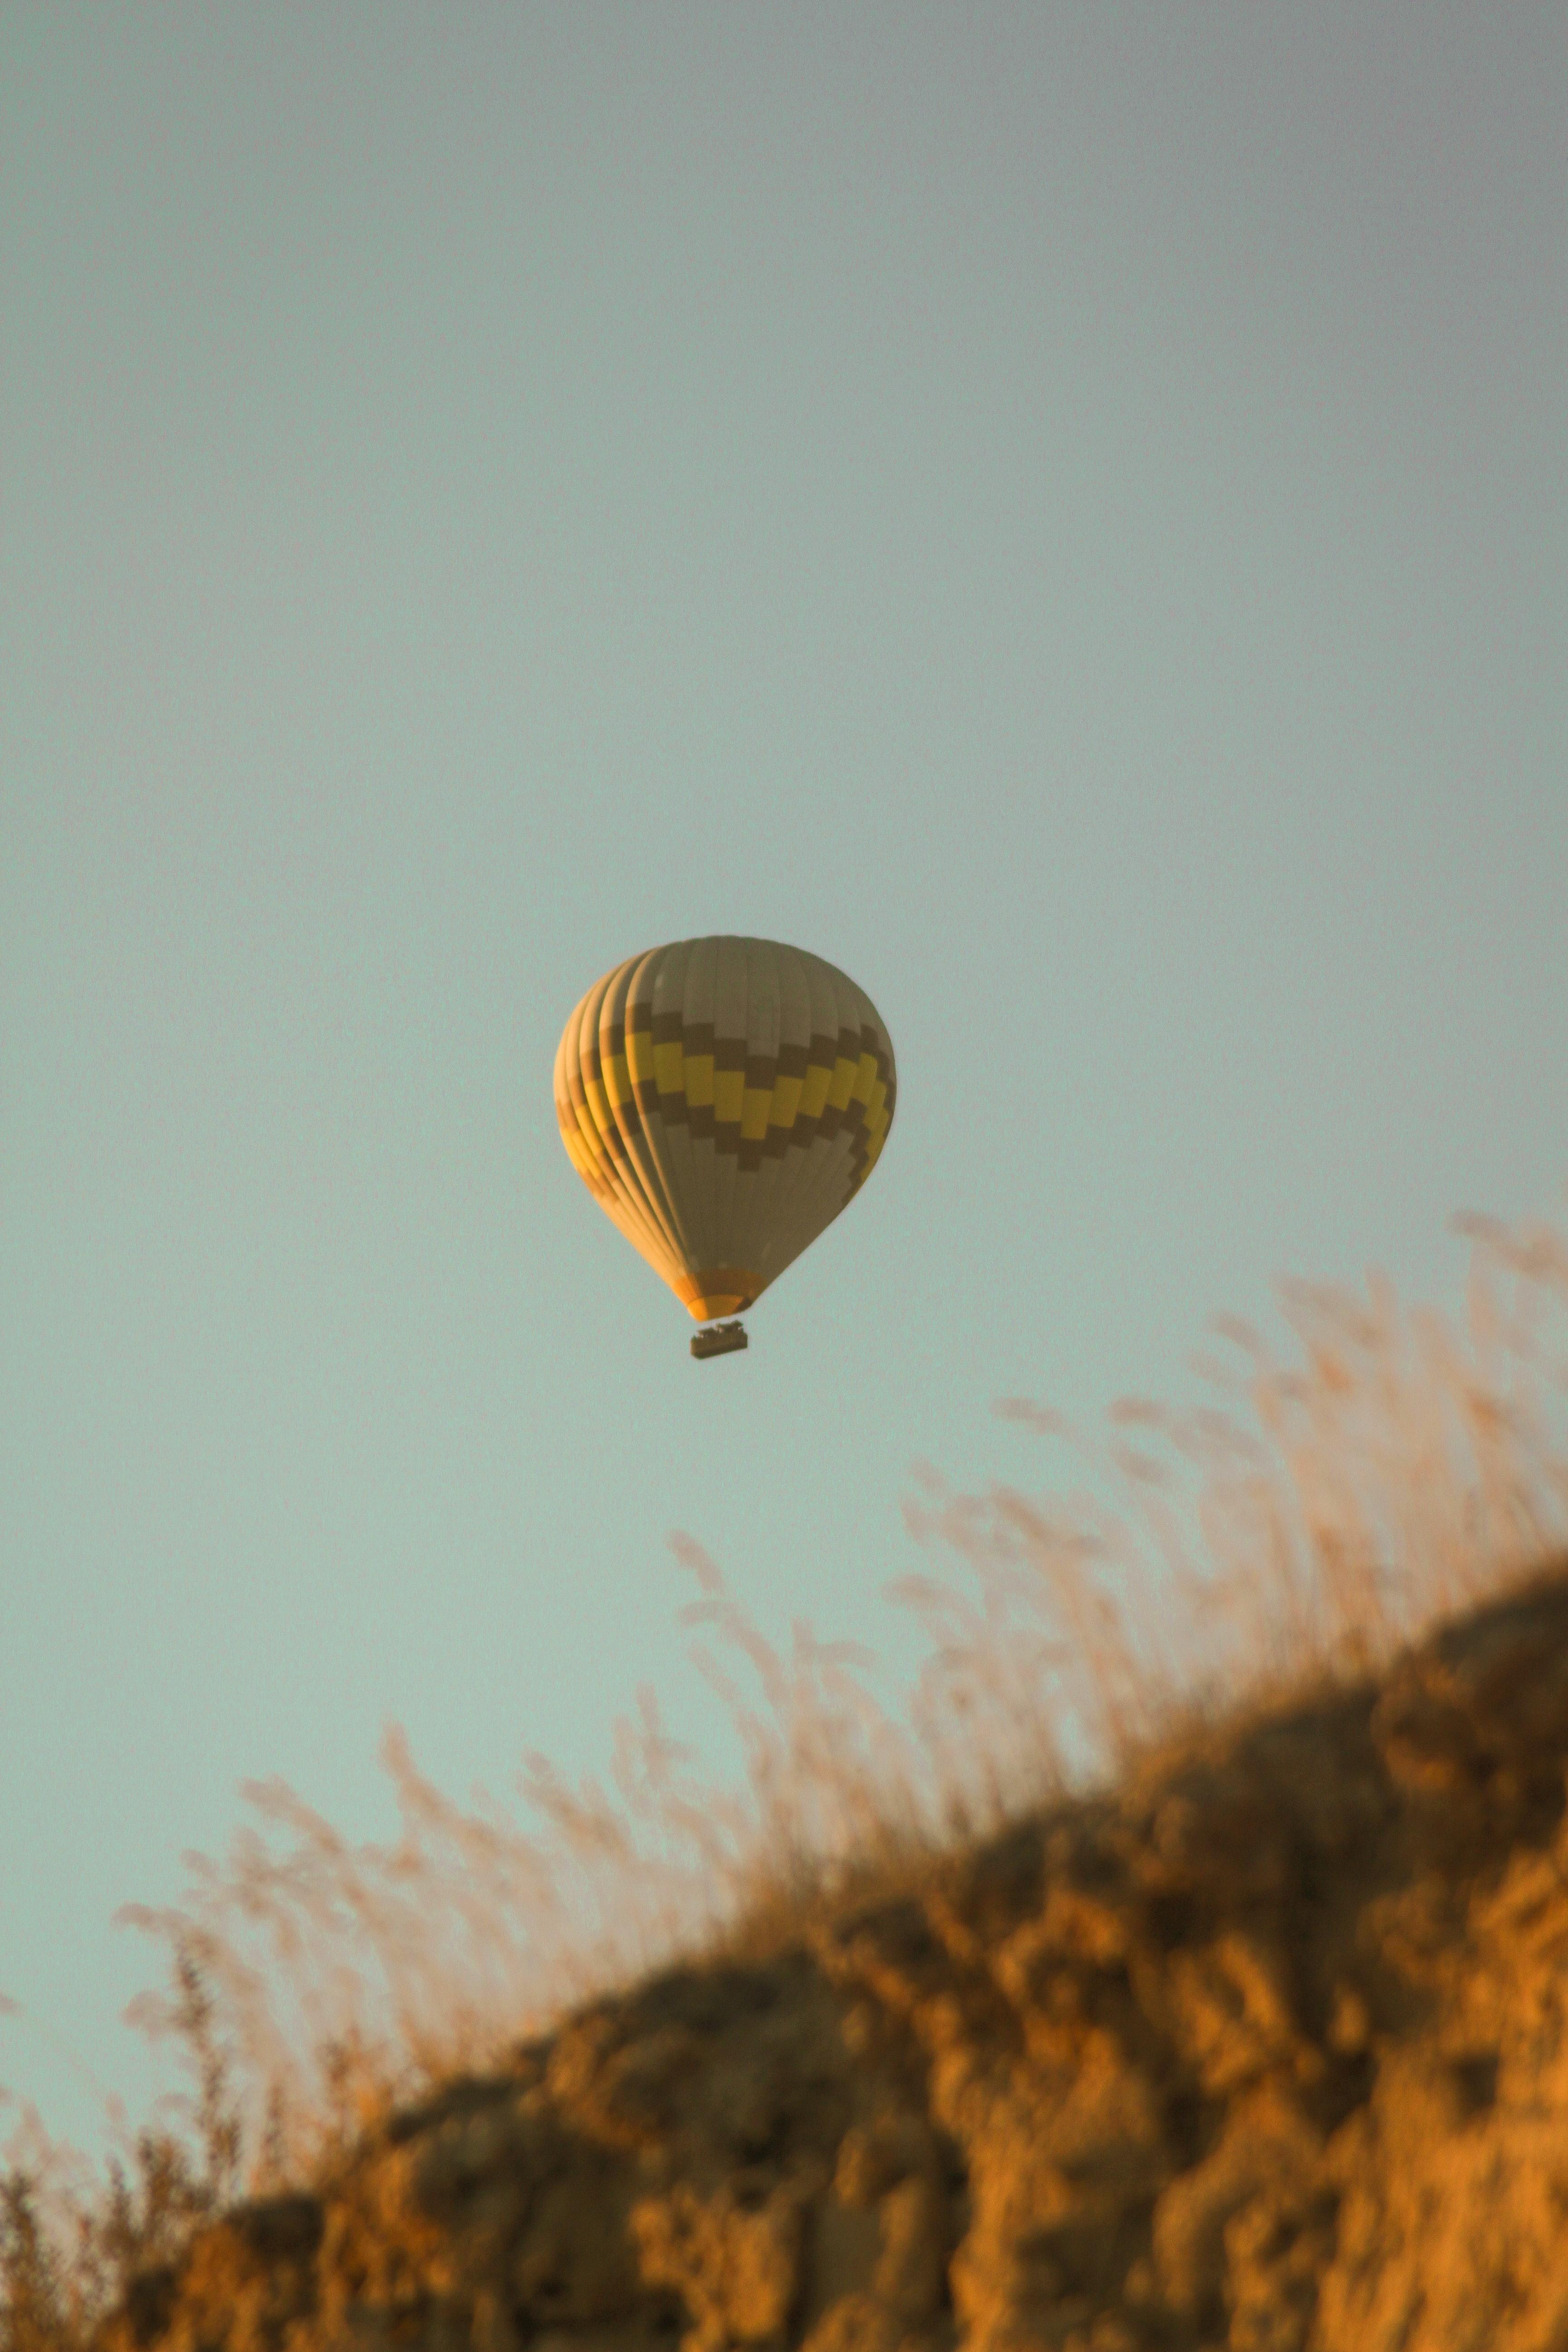hot air ballon: (533, 926, 906, 1376)
